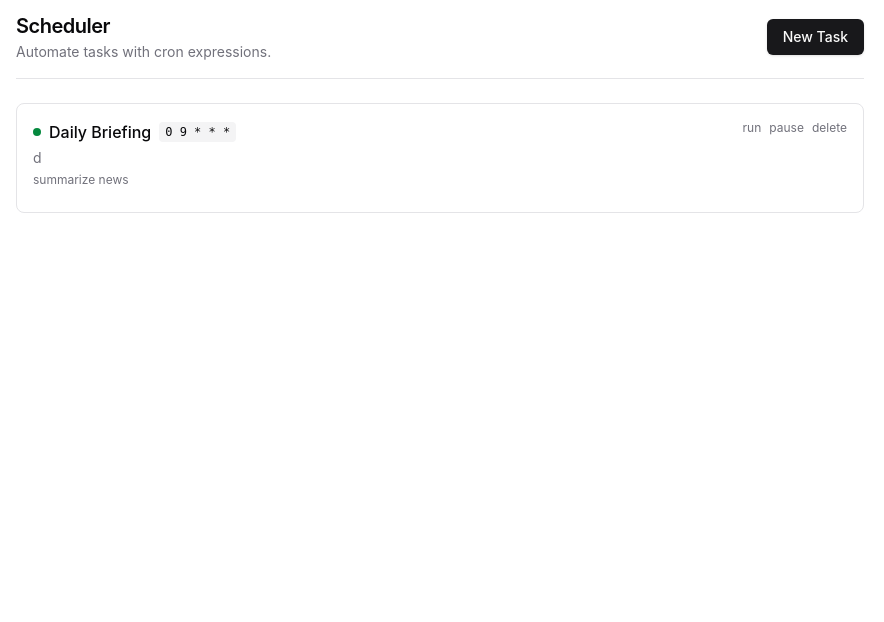
it: SchedulerView › shows create form when New Task clicked
Click the button "New Task". click: (815, 37)
box: [767, 19, 864, 55]
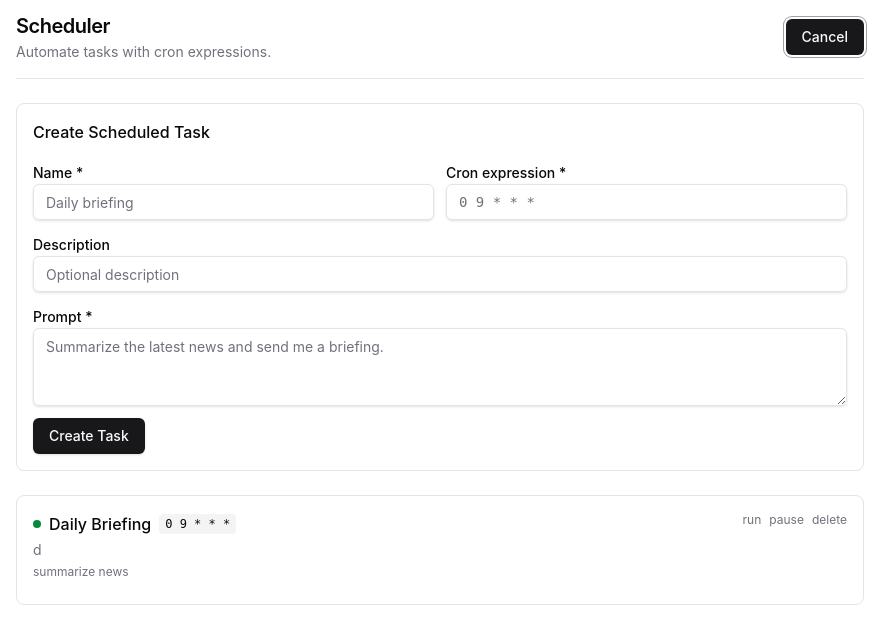
Expected: the heading "Create Scheduled Task" is shown, [33, 122, 210, 142]
